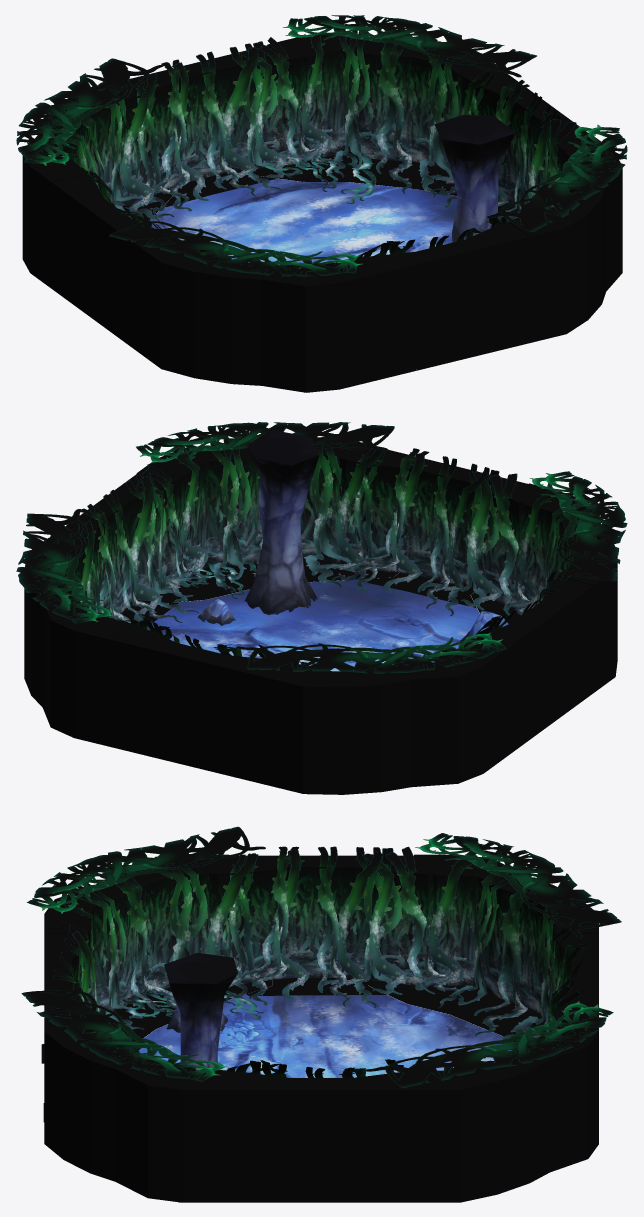
Rendered from Dungeon_012_StartRoom_001_008.fbx.
The picture shows the model from 3 angles, top to bottom: view 1: azimuth 30°, elevation 25°; view 2: azimuth 150°, elevation 25°; view 3: azimuth 270°, elevation 25°; orthographic projection. The views are drawn at different scales.
Parts seen in each view (by area): view 1: Dun_011_StartRoom_001_wall, un_021_Door_002 (×4), Dungeon_021_Tsuta_002, un_021_Door_002_Object1 (×4), Dun_011_StartRoom_001_ground, Dungeon_021_Tsuta_001, Dungeon_011_Object_010, Dun_011_StartRoom_001_shadow, Dungeon_021_Tsuta_003, Dun_011_Door_002_shadow; view 2: Dun_011_StartRoom_001_wall, un_021_Door_002 (×4), un_021_Door_002_Object1 (×4), Dungeon_021_Tsuta_002, Dun_011_StartRoom_001_ground, Dungeon_011_Object_010, Dungeon_021_Tsuta_001, Dun_011_StartRoom_001_shadow, Dun_011_Door_002_shadow, Dungeon_021_Tsuta_003, Dungeon_011_Object_013; view 3: Dun_011_StartRoom_001_wall, un_021_Door_002 (×4), Dungeon_021_Tsuta_002, un_021_Door_002_Object1 (×4), Dun_011_StartRoom_001_ground, Dungeon_021_Tsuta_001, Dungeon_011_Object_010, Dun_011_StartRoom_001_shadow, Dun_011_Door_002_shadow, Dungeon_021_Tsuta_003.
Boxes of the visible parts, x1,y1,x2,y2 form: Dun_011_StartRoom_001_wall: (22, 34, 622, 392); un_021_Door_002 (×4): (34, 37, 600, 379); Dungeon_021_Tsuta_002: (16, 15, 627, 276); un_021_Door_002_Object1 (×4): (84, 37, 576, 258); Dun_011_StartRoom_001_ground: (150, 178, 457, 268); Dungeon_021_Tsuta_001: (41, 28, 608, 269); Dungeon_011_Object_010: (434, 114, 515, 242); Dun_011_StartRoom_001_shadow: (122, 155, 528, 378); Dungeon_021_Tsuta_003: (264, 153, 376, 203); Dun_011_Door_002_shadow: (165, 170, 276, 206); Dun_011_StartRoom_001_wall: (24, 442, 617, 794); un_021_Door_002 (×4): (42, 441, 599, 784); un_021_Door_002_Object1 (×4): (77, 447, 563, 657); Dungeon_021_Tsuta_002: (16, 422, 627, 673); Dun_011_StartRoom_001_ground: (147, 580, 479, 671); Dungeon_011_Object_010: (244, 429, 319, 614); Dungeon_021_Tsuta_001: (42, 439, 602, 670); Dun_011_StartRoom_001_shadow: (142, 558, 526, 623); Dun_011_Door_002_shadow: (359, 573, 476, 607); Dungeon_021_Tsuta_003: (174, 560, 258, 598); Dungeon_011_Object_013: (198, 599, 235, 625); Dun_011_StartRoom_001_wall: (44, 855, 598, 1202); un_021_Door_002 (×4): (44, 854, 598, 1202); Dungeon_021_Tsuta_002: (21, 826, 621, 1088); un_021_Door_002_Object1 (×4): (53, 846, 589, 1078); Dun_011_StartRoom_001_ground: (139, 994, 511, 1202); Dungeon_021_Tsuta_001: (64, 854, 578, 1072); Dungeon_011_Object_010: (164, 953, 237, 1070); Dun_011_StartRoom_001_shadow: (41, 980, 546, 1121); Dun_011_Door_002_shadow: (247, 978, 386, 996); Dungeon_021_Tsuta_003: (120, 990, 263, 1019).
Size of what is drawn, in the model's own units: 10.31 by 2.96 by 10.
